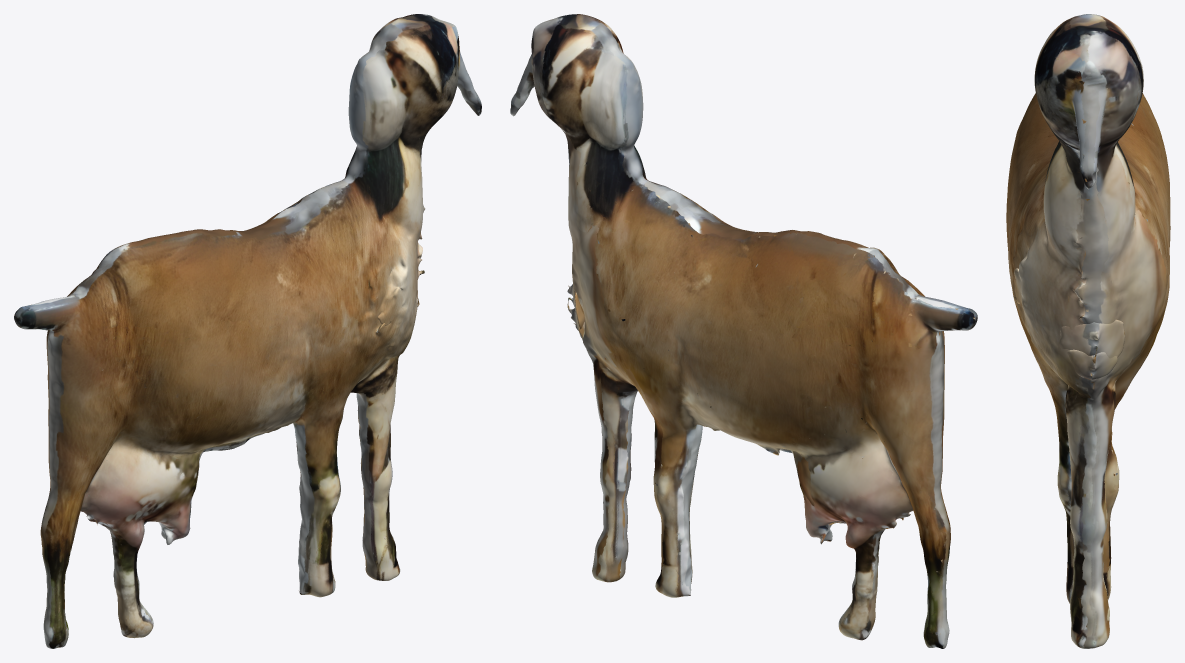
The model's file is adulto.glb.
The picture shows the model from 3 angles, left to right: view 1: azimuth 30°, elevation 25°; view 2: azimuth 150°, elevation 25°; view 3: azimuth 270°, elevation 25°; orthographic projection. The views are drawn at different scales.
Visible parts, largest first — view 1: mesh; view 2: mesh; view 3: mesh.
Part boxes in pixels (x1=…): mesh: x1=14, y1=14, x2=481, y2=648; mesh: x1=510, y1=14, x2=977, y2=648; mesh: x1=1006, y1=14, x2=1170, y2=648.
Bounding box in the file's own units: 1.44 × 1.63 × 0.38.
1 material, 1 textured.
